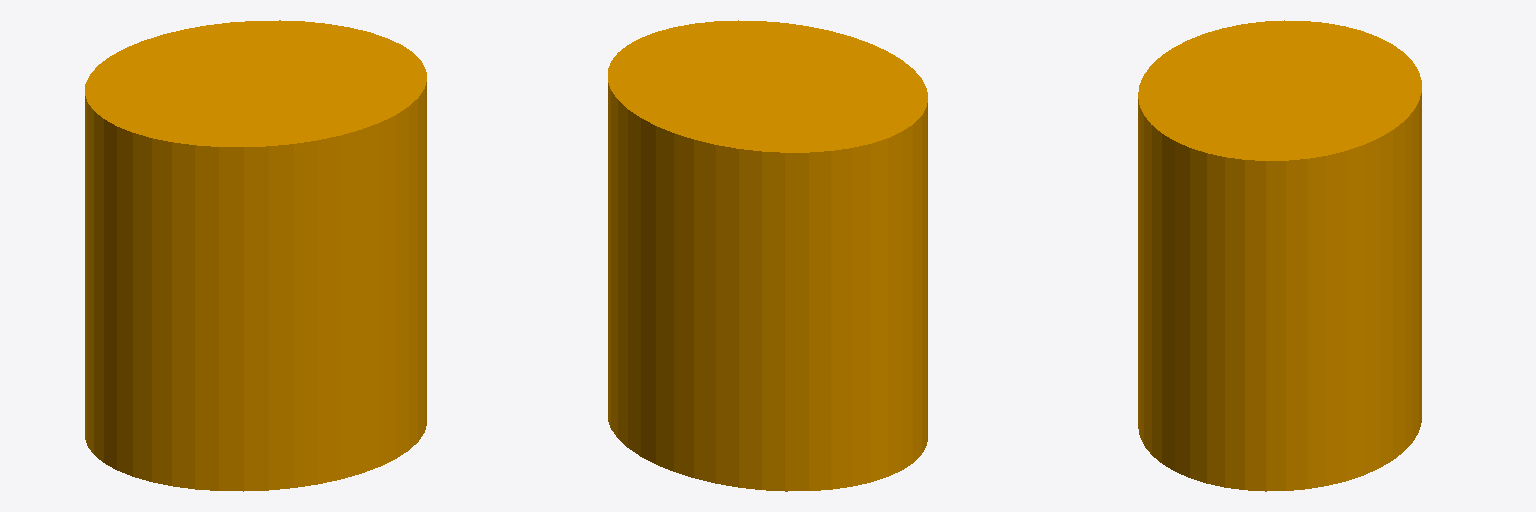
URDF robot description (object):
<?xml version="1.0"?>
<robot name="object">
  <link name="object">
    <visual>
      <origin xyz="0 0 0"/>
      <geometry>
        <mesh filename="meshes/generated/col_022.obj" scale="0.03 0.03 0.03"/>
      </geometry>
    </visual>
    <collision>
      <origin xyz="0 0 0"/>
      <geometry>
        <mesh filename="meshes/generated/col_022.obj" scale="0.03 0.03 0.03"/>
      </geometry>
    </collision>
    <inertial>
      <density value="1000.0"/>
    </inertial>
  </link>
</robot>

--- Facts derived from the render (not from the file) ---
3 views of the same robot in one strip: view 1: azimuth 30°, elevation 25°; view 2: azimuth 150°, elevation 25°; view 3: azimuth 270°, elevation 25° (orthographic).
Model object with 1 links and 0 joints (none), rooted at object, posed all joints at 0.
Links seen in each view (by area): view 1: object; view 2: object; view 3: object.
Link boxes in pixels (left/top/right/bottom): object: left=85, top=20, right=426, bottom=491; object: left=608, top=20, right=927, bottom=491; object: left=1138, top=20, right=1421, bottom=491.
Bounding box of the posed robot: 0.0548 × 0.0467 × 0.06 m (x, y, z).
Meshes: 1 distinct files referenced, 1 mesh visuals loaded (1 OBJ).
